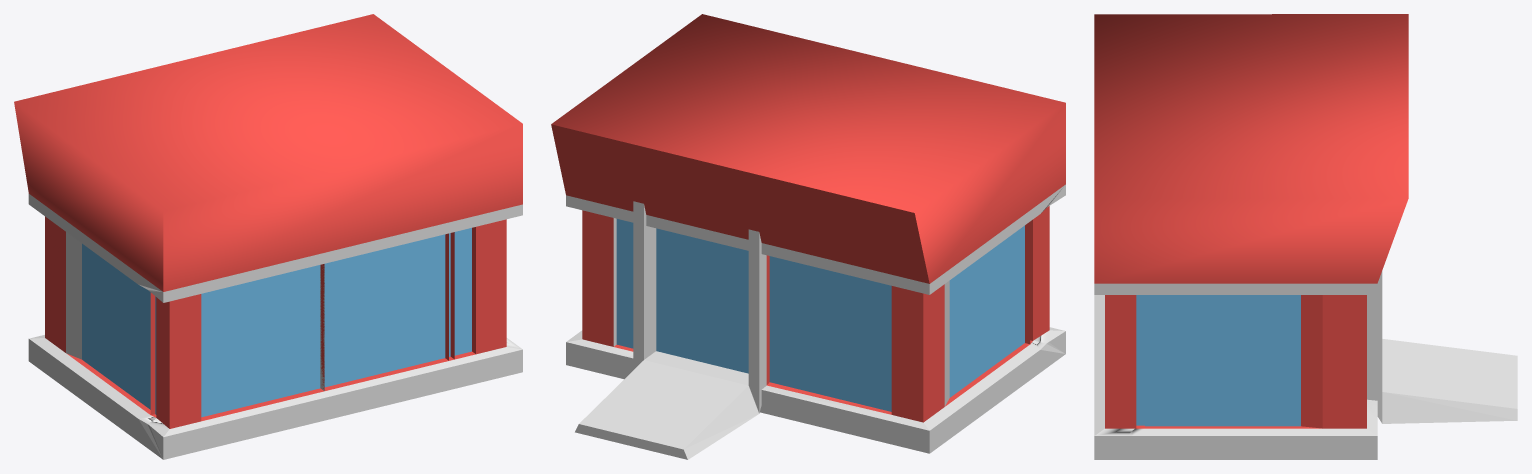
The model's file is Shop3x2x2Red.fbx.
The picture shows the model from 3 angles, left to right: view 1: azimuth 30°, elevation 25°; view 2: azimuth 150°, elevation 25°; view 3: azimuth 270°, elevation 25°; orthographic projection. The views are drawn at different scales.
Visible parts, largest first — view 1: Shop.002; view 2: Shop.002; view 3: Shop.002.
Boxes of the visible parts, x1,y1,x2,y2 form: Shop.002: [14, 14, 522, 459]; Shop.002: [551, 14, 1065, 459]; Shop.002: [1094, 14, 1517, 459].
Size of the model in its own units: 3 by 1.98 by 2.91.
Materials: 1 (1 with a texture image).
